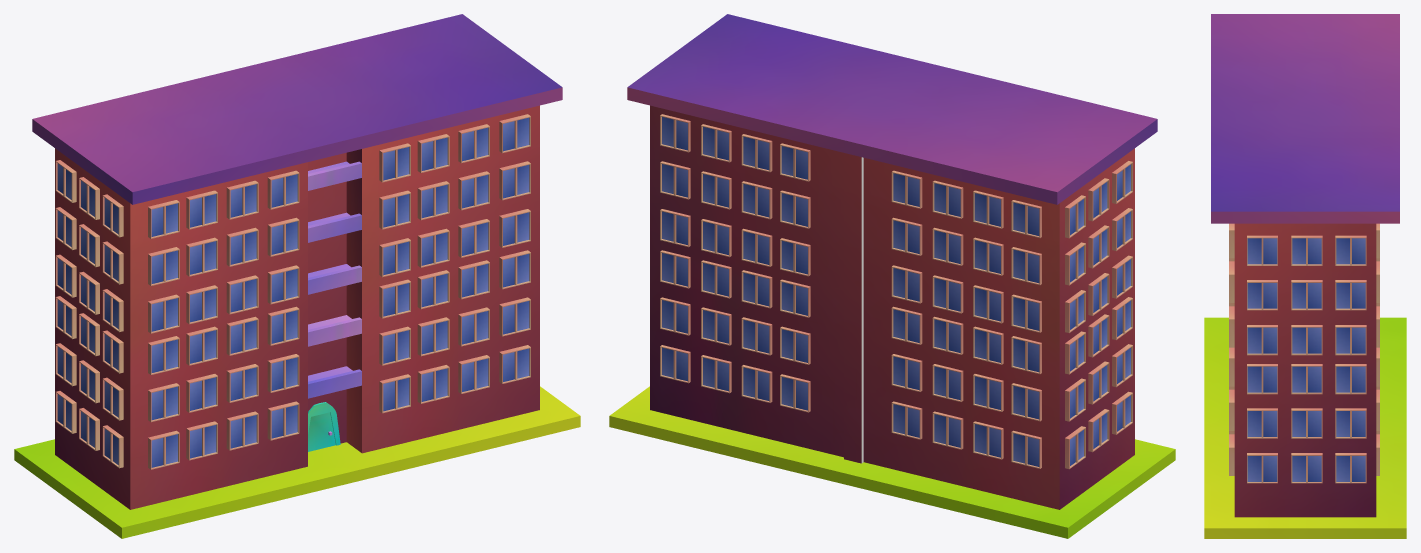
The model's file is House_17.glb.
3 views of the same model, side by side, from view 1: azimuth 30°, elevation 25°; view 2: azimuth 150°, elevation 25°; view 3: azimuth 270°, elevation 25° (orthographic). The views are drawn at different scales.
Parts seen in each view (by area): view 1: House_17; view 2: House_17; view 3: House_17.
Boxes of the visible parts, left/top/right/bottom form: House_17: left=14, top=14, right=580, bottom=538; House_17: left=609, top=14, right=1175, bottom=538; House_17: left=1204, top=14, right=1406, bottom=538.
Size of the model in its own units: 3197 by 2268 by 1298.
Materials: 1 (1 with a texture image).
